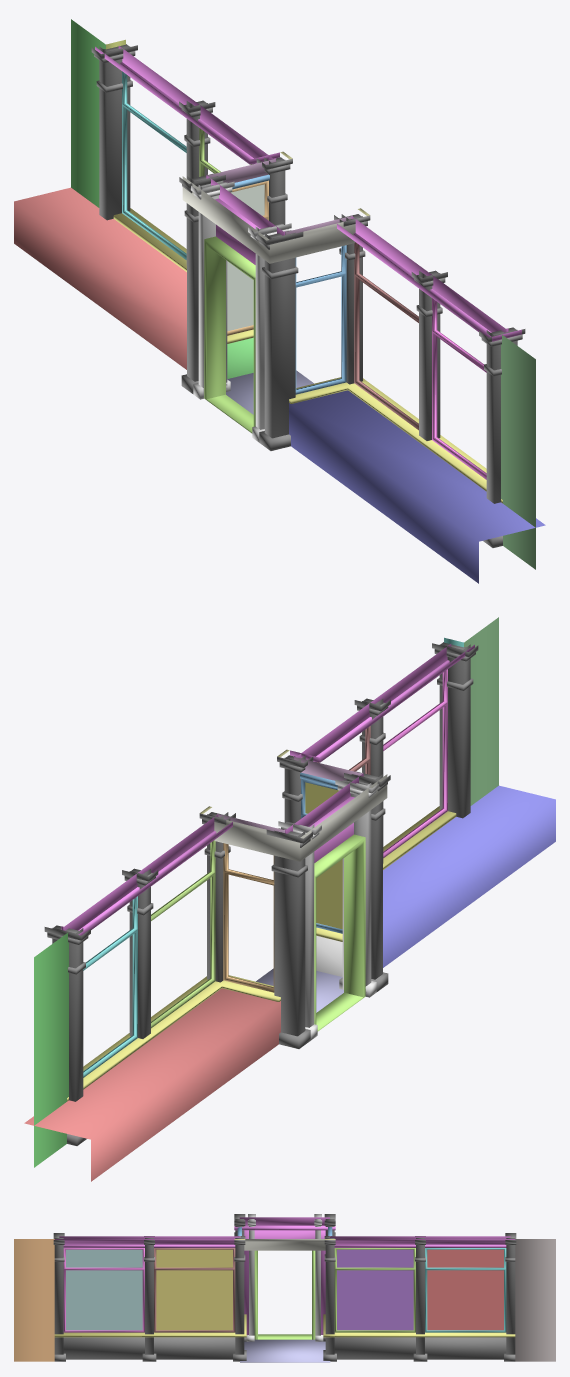
The model's file is SM_shopFront_04.gltf.
The picture shows the model from 3 angles, top to bottom: view 1: azimuth 30°, elevation 25°; view 2: azimuth 150°, elevation 25°; view 3: azimuth 270°, elevation 25°; orthographic projection. The views are drawn at different scales.
Visible parts, largest first — view 1: SM_shopFront_04; view 2: SM_shopFront_04; view 3: SM_shopFront_04.
Boxes of the visible parts, x1,y1,x2,y2 form: SM_shopFront_04: (14,19,545,583); SM_shopFront_04: (24,617,555,1181); SM_shopFront_04: (14,1214,555,1362).
Bounding box in the file's own units: 1.55 × 3 × 12.
